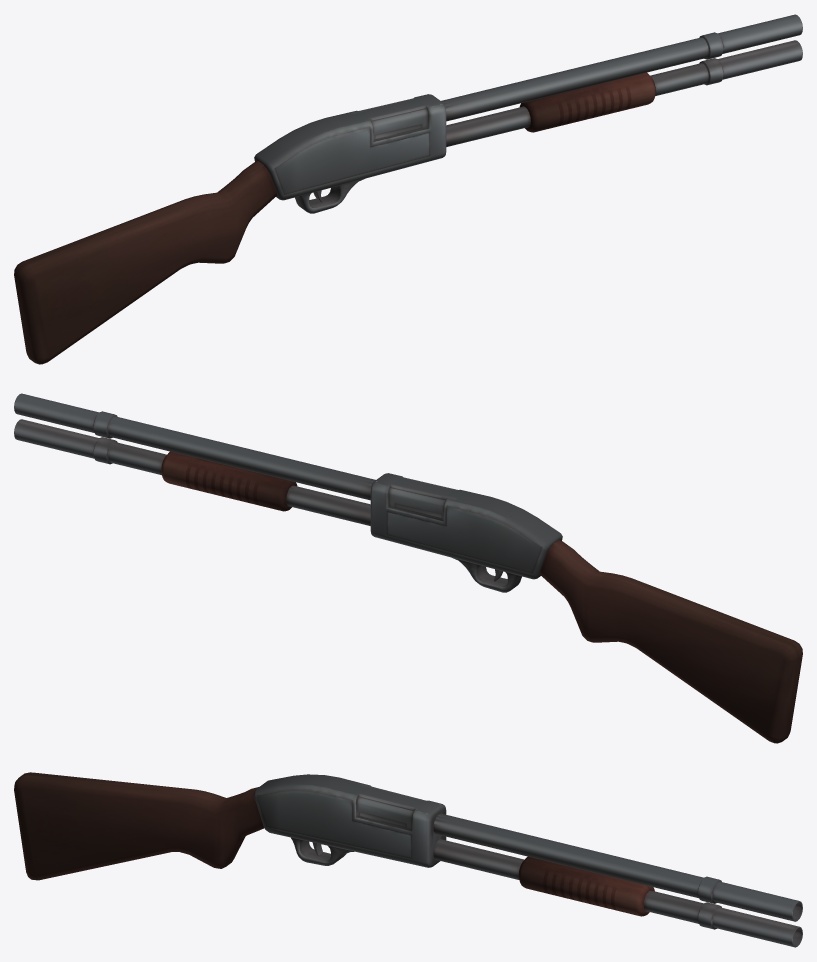
Rendered from shotgun.glb.
The picture shows the model from 3 angles, top to bottom: view 1: azimuth 30°, elevation 25°; view 2: azimuth 150°, elevation 25°; view 3: azimuth 330°, elevation 25°; orthographic projection.
Visible parts, largest first — view 1: shotgun, shotgunpomp; view 2: shotgun, shotgunpomp; view 3: shotgun, shotgunpomp.
Part boxes in pixels (<box>): shotgun: <box>14,14,802,364</box>; shotgunpomp: <box>519,72,655,132</box>; shotgun: <box>14,393,802,743</box>; shotgunpomp: <box>161,451,297,511</box>; shotgun: <box>14,772,802,947</box>; shotgunpomp: <box>518,856,654,916</box>.
Bounding box in the file's own units: 0.6341 × 0.1305 × 0.0255.
Materials: 1 (1 with a texture image).
